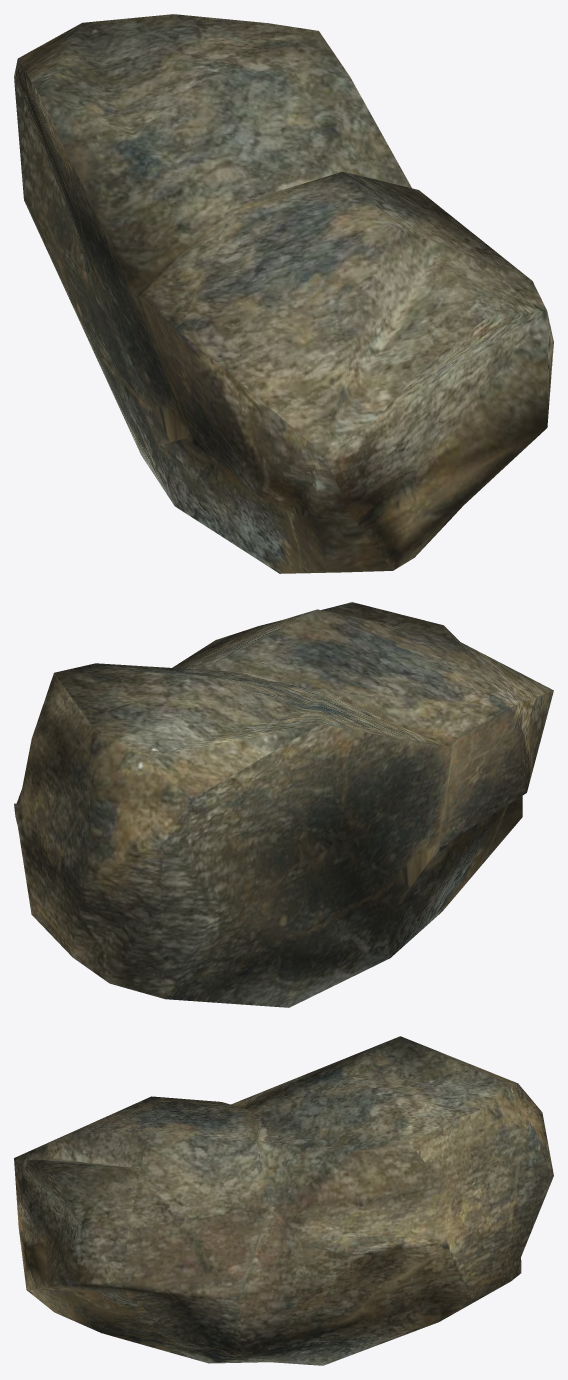
The model's file is namaqualand_boulder_06_lod1.glb.
3 renders of one model, top to bottom at view 1: azimuth 30°, elevation 25°; view 2: azimuth 150°, elevation 25°; view 3: azimuth 270°, elevation 25°, orthographic. The views are drawn at different scales.
Parts seen in each view (by area): view 1: namaqualand_boulder_06; view 2: namaqualand_boulder_06; view 3: namaqualand_boulder_06.
Boxes of the visible parts, x1,y1,x2,y2 form: namaqualand_boulder_06: [14, 14, 553, 573]; namaqualand_boulder_06: [14, 602, 553, 1007]; namaqualand_boulder_06: [14, 1036, 553, 1365].
Bounding box in the file's own units: 0.6607 × 0.6239 × 1.18.
1 material, 1 textured.
